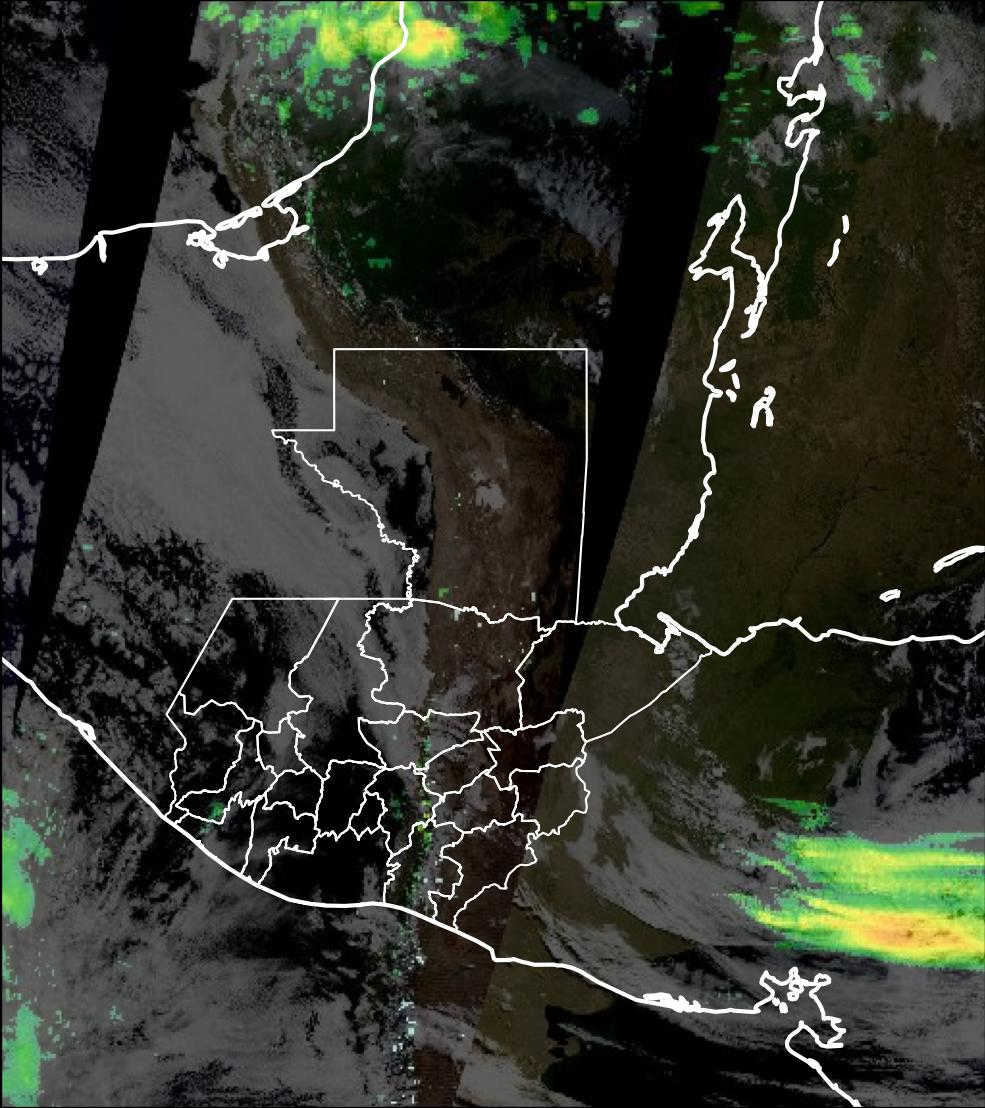precipitacion: (773, 883, 985, 985), (336, 4, 505, 92)
